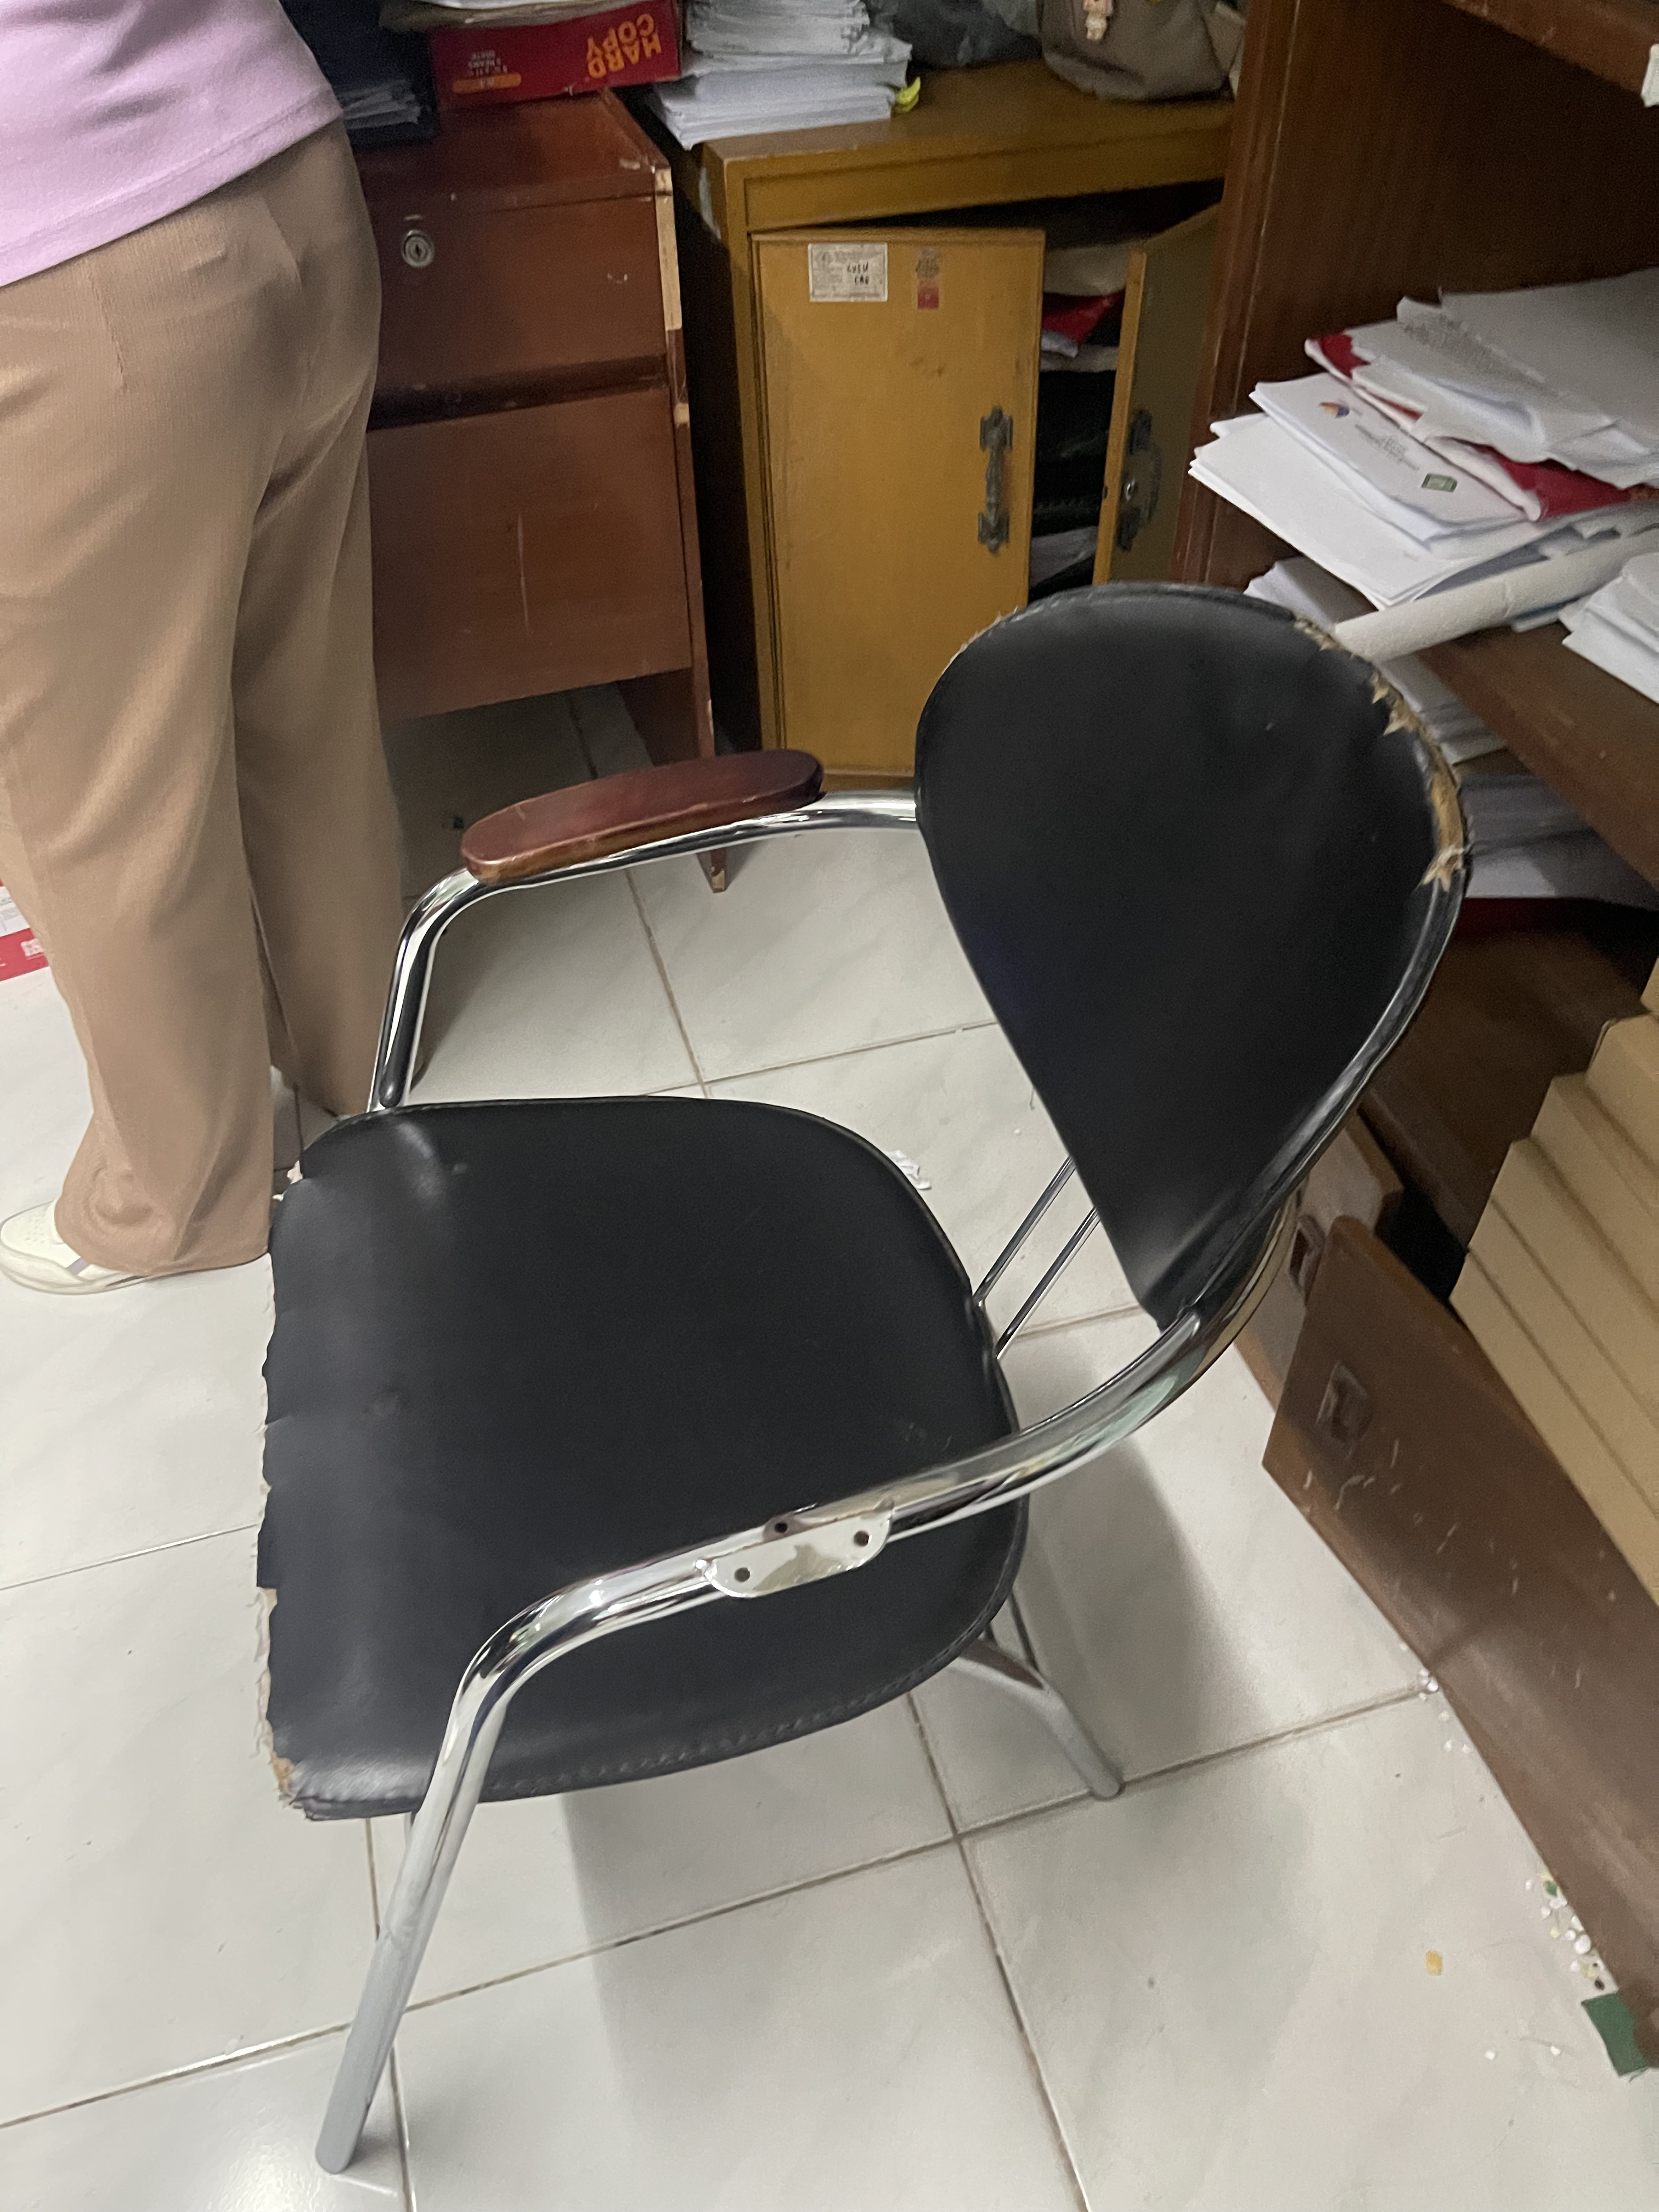chair1: (260, 583, 1471, 2184)
